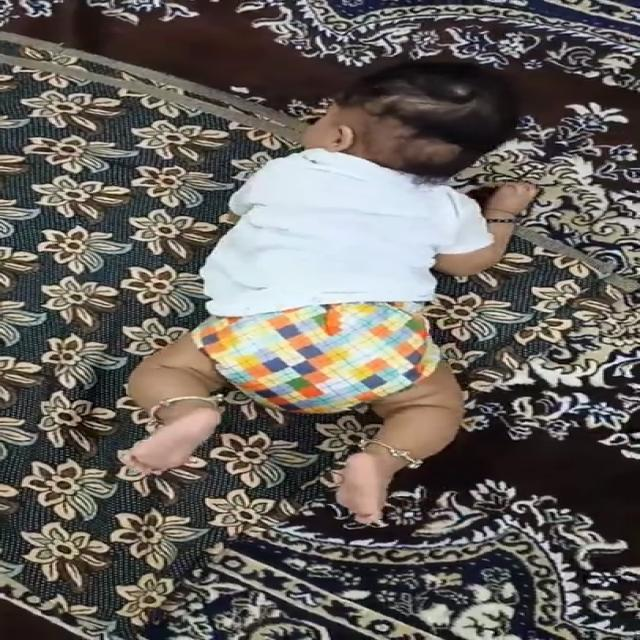baby: (117, 46, 571, 532)
